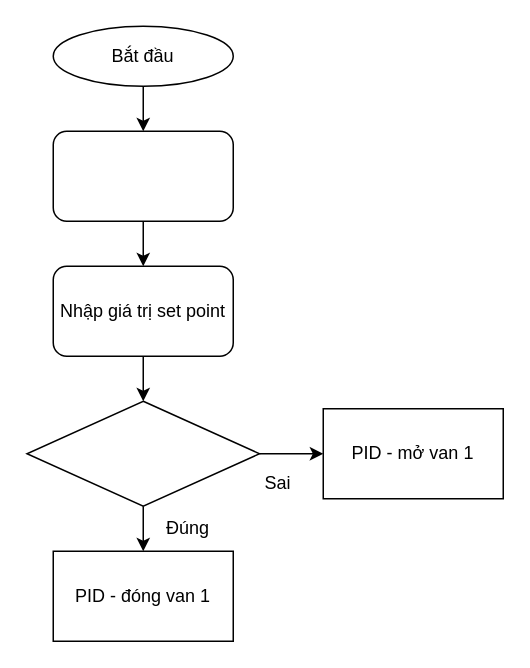
Image size: 530x668. Some labels were removed from this diagram. Here are the shapes that lost their labels. From the top down, the centre of each, then its label:
[142,175]: Nhiệt độ buồng mixing
[143,453]: set point > giá trị hiện tại
